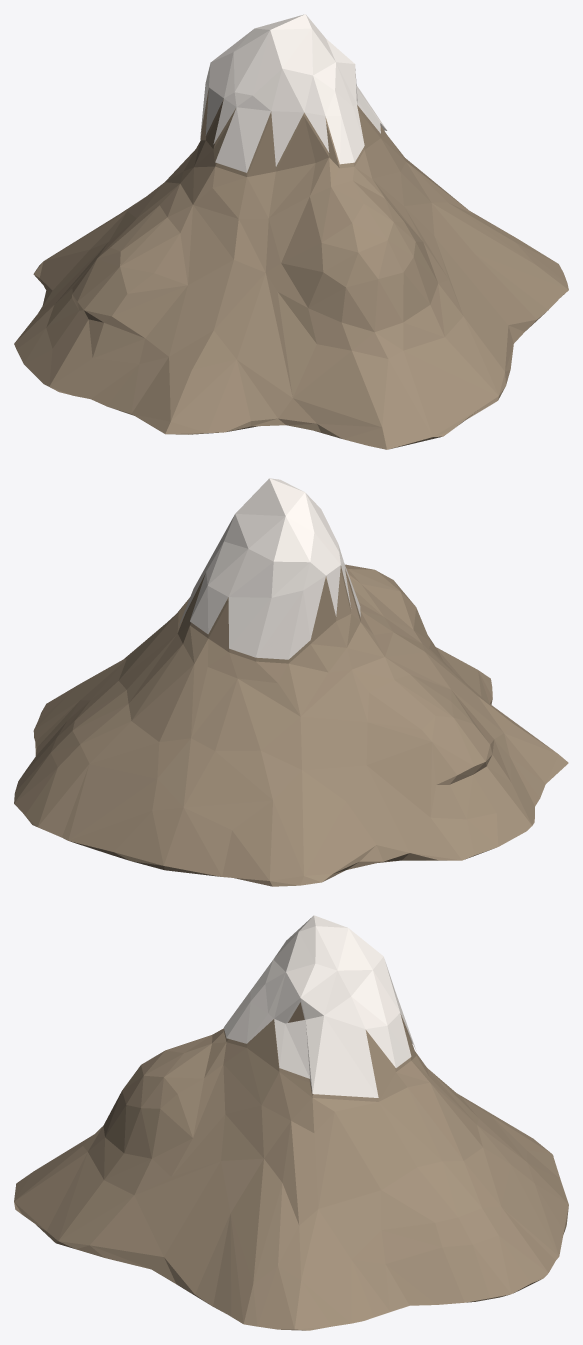
File: Montaña.fbx
3 views of the same model, one above another, from view 1: azimuth 30°, elevation 25°; view 2: azimuth 150°, elevation 25°; view 3: azimuth 270°, elevation 25° (orthographic). The views are drawn at different scales.
Parts seen in each view (by area): view 1: Montaña; view 2: Montaña; view 3: Montaña.
Part boxes in pixels (x1,y1,x2,y2): Montaña: (14,14,568,449); Montaña: (14,478,568,886); Montaña: (14,915,568,1330).
Bounding box in the file's own units: 7.37 × 4.3 × 7.27.
